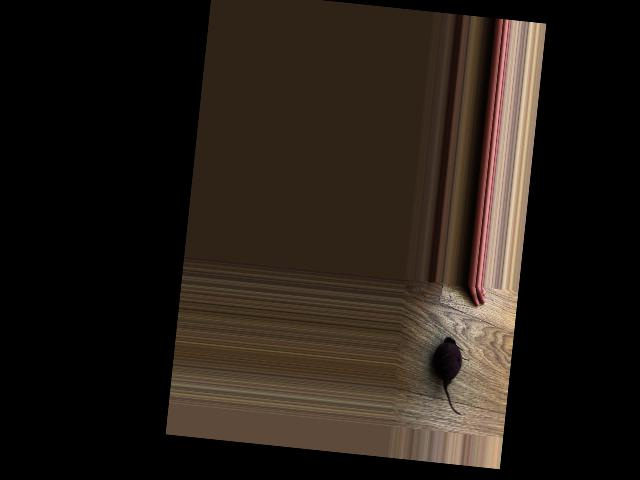beet: (428, 336, 471, 415)
